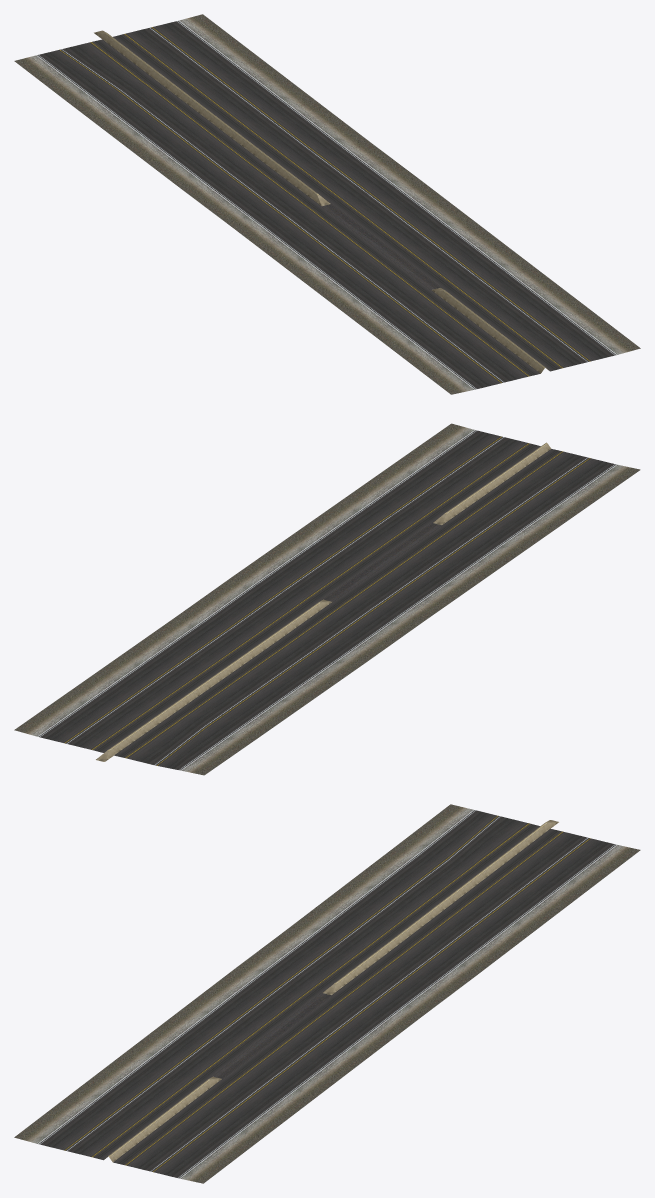
The model's file is vegasnroad21.obj.
The picture shows the model from 3 angles, top to bottom: view 1: azimuth 30°, elevation 25°; view 2: azimuth 150°, elevation 25°; view 3: azimuth 330°, elevation 25°; orthographic projection.
Parts seen in each view (by area): view 1: vegasNroad21; view 2: vegasNroad21; view 3: vegasNroad21.
Part boxes in pixels (bbox=[...]): vegasNroad21: bbox=[14, 14, 640, 394]; vegasNroad21: bbox=[14, 423, 640, 775]; vegasNroad21: bbox=[14, 804, 640, 1183].
Bounding box in the file's own units: 40 × 3.71 × 163.
Materials: 4 (4 with a texture image).
